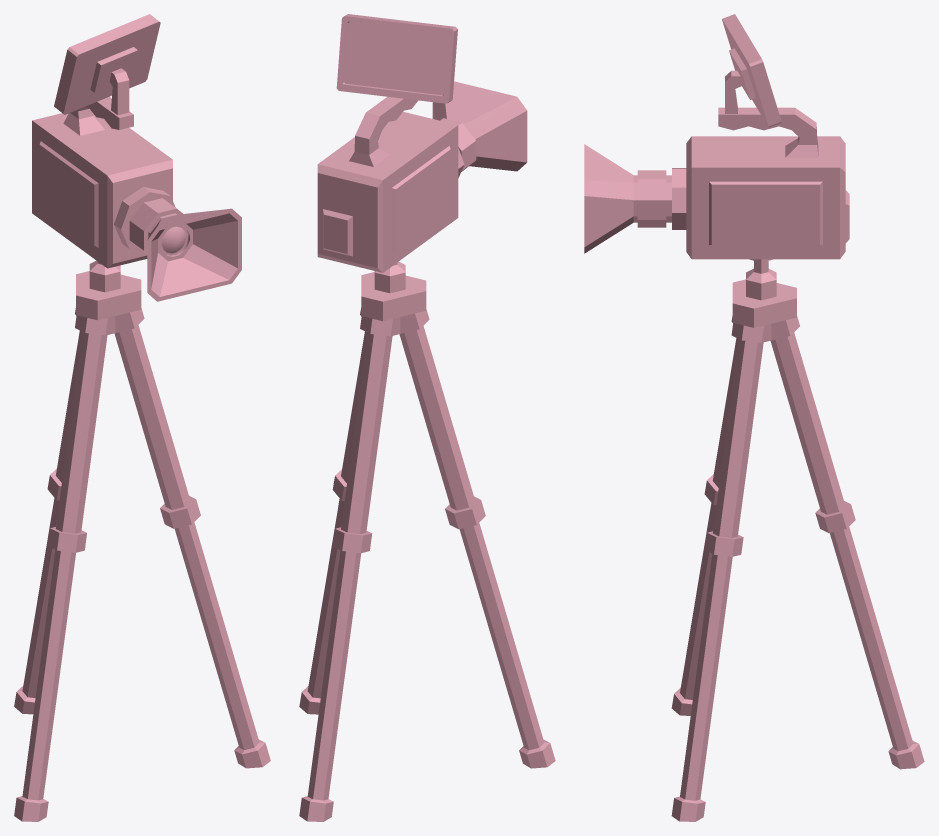
The model's file is Camera.fbx.
3 views of the same model, side by side, from view 1: azimuth 30°, elevation 25°; view 2: azimuth 150°, elevation 25°; view 3: azimuth 270°, elevation 25° (orthographic).
Visible parts, largest first — view 1: Camera; view 2: Camera; view 3: Camera.
Part boxes in pixels (x1,y1,x2,y2): Camera: (14,14,270,821); Camera: (299,14,555,821); Camera: (584,14,924,821).
Size of the model in its own units: 67.78 by 192 by 81.5.
